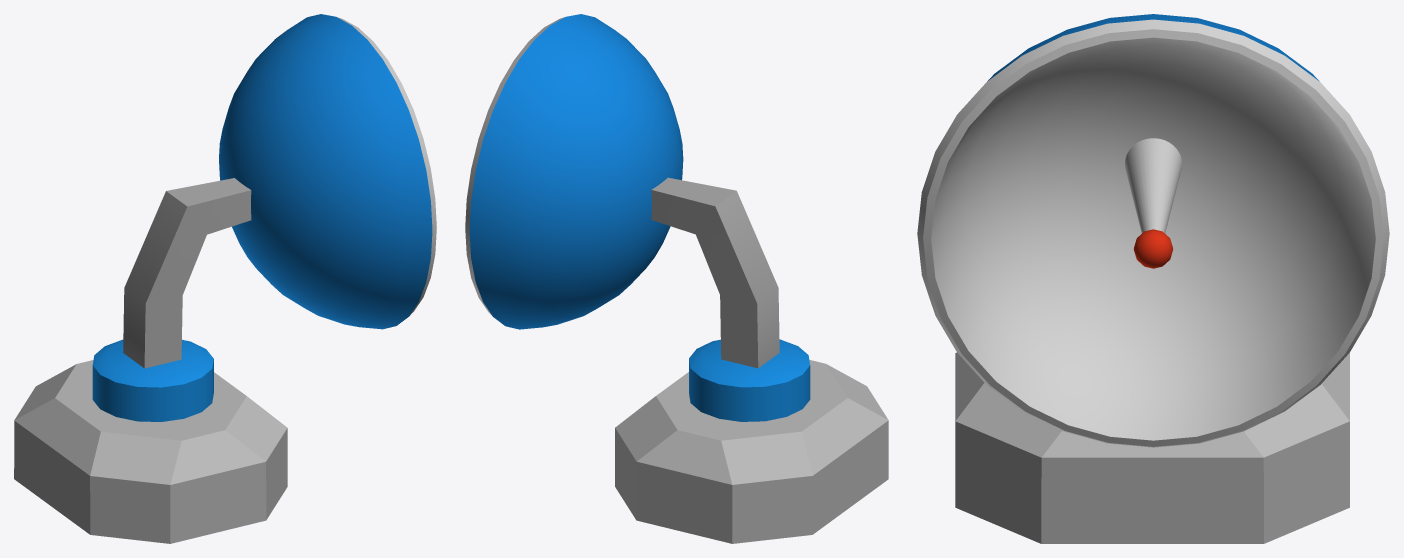
File: Laser_var1.fbx
3 views of the same model, side by side, from view 1: azimuth 30°, elevation 25°; view 2: azimuth 150°, elevation 25°; view 3: azimuth 270°, elevation 25° (orthographic). The views are drawn at different scales.
Parts seen in each view (by area): view 1: Laser_1, Laser_stand1; view 2: Laser_1, Laser_stand1; view 3: Laser_1, Laser_stand1.
Part boxes in pixels (x1=…): Laser_1: x1=92, y1=14, x2=436, y2=421; Laser_stand1: x1=14, y1=360, x2=287, y2=543; Laser_1: x1=465, y1=14, x2=810, y2=421; Laser_stand1: x1=615, y1=360, x2=888, y2=543; Laser_1: x1=917, y1=14, x2=1389, y2=447; Laser_stand1: x1=955, y1=352, x2=1349, y2=543.
Size of the model in its own units: 1.29 by 1.51 by 1.08.
Materials: 1 (1 with a texture image).
